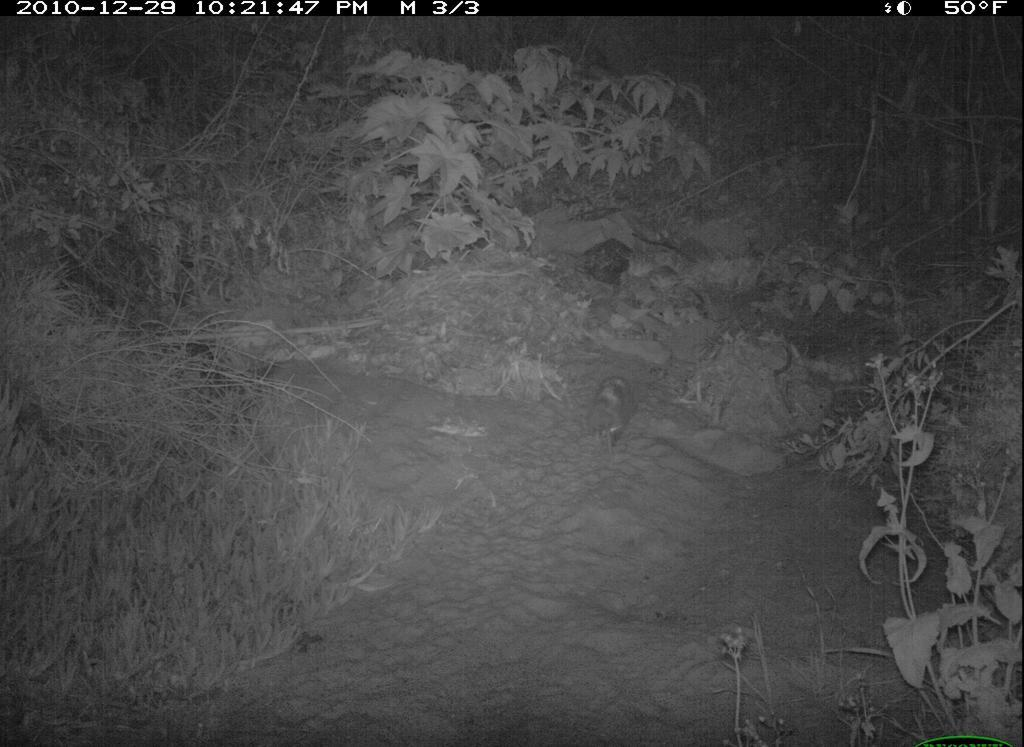opossum: (580, 364, 653, 479)
